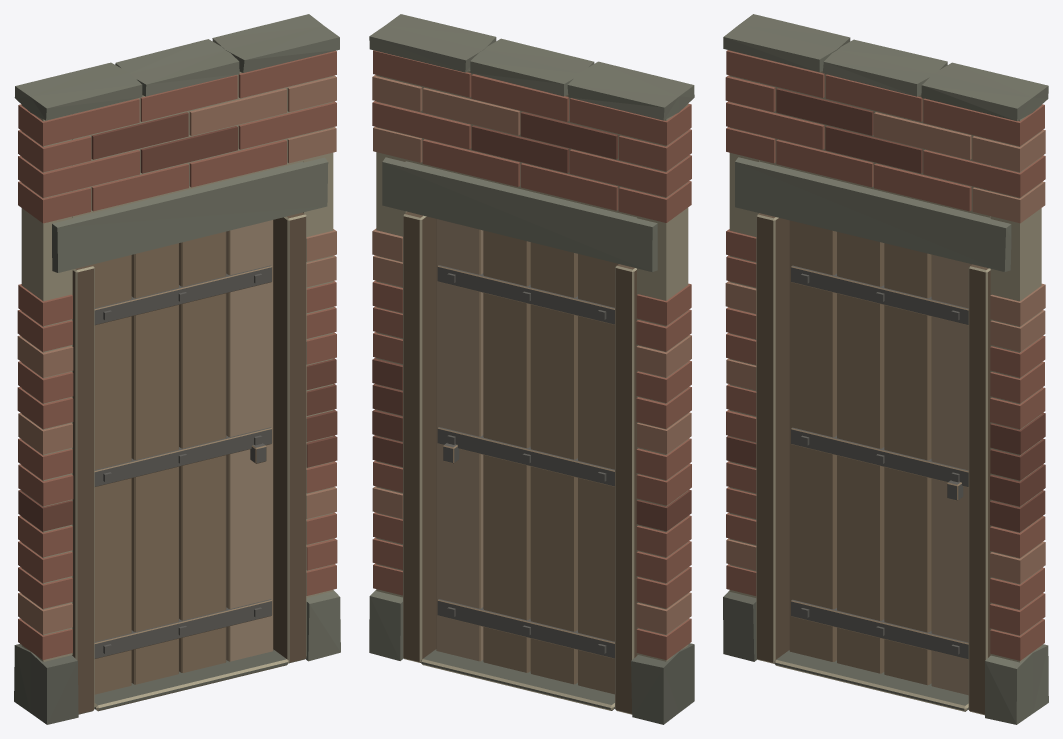
The model's file is door_brick.glb.
3 views of the same model, side by side, from view 1: azimuth 30°, elevation 25°; view 2: azimuth 150°, elevation 25°; view 3: azimuth 330°, elevation 25° (orthographic).
Visible parts, largest first — view 1: Door_Brick_Frame, Door_Brick_L; view 2: Door_Brick_Frame, Door_Brick_L; view 3: Door_Brick_Frame, Door_Brick_L.
Boxes of the visible parts, bbox=[...] form: Door_Brick_Frame: bbox=[14, 14, 340, 724]; Door_Brick_L: bbox=[92, 220, 273, 694]; Door_Brick_Frame: bbox=[369, 14, 694, 724]; Door_Brick_L: bbox=[436, 219, 618, 694]; Door_Brick_Frame: bbox=[723, 14, 1048, 724]; Door_Brick_L: bbox=[789, 220, 972, 695].
Bounding box in the file's own units: 1.52 × 3.05 × 0.2948.
